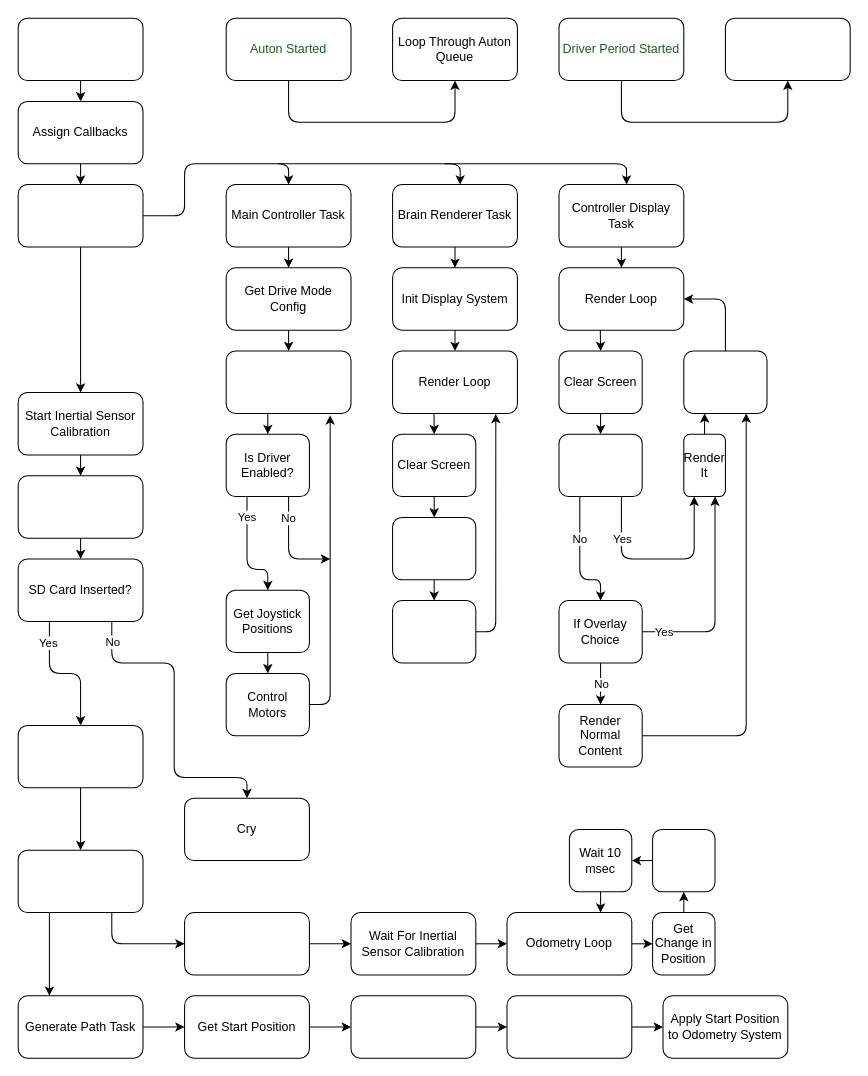
The diagram is 868 pixels wide and 1076 high, and some of its shapes have lost their labels. The shapes that lost their labels are listed below. From the top down, each one's centre as x and y in pixels, then its label:
[80,49]: Program Started
[787,49]: Enable Driver
[80,215]: Start Tasks
[288,381]: Drive Loop
[725,381]: Render Alt Controller
[600,465]: If Overlay Text
[80,506]: AutonSystem.init()
[434,548]: Render Screen
[434,631]: Limit to 60 FPS
[80,756]: Load Configs from SD Card
[683,860]: Apply Changes
[80,881]: Start Final Tasks
[246,943]: Odometry Task
[413,1026]: Read Coresponding JSON File
[569,1026]: Load Path Into Auton Queue
